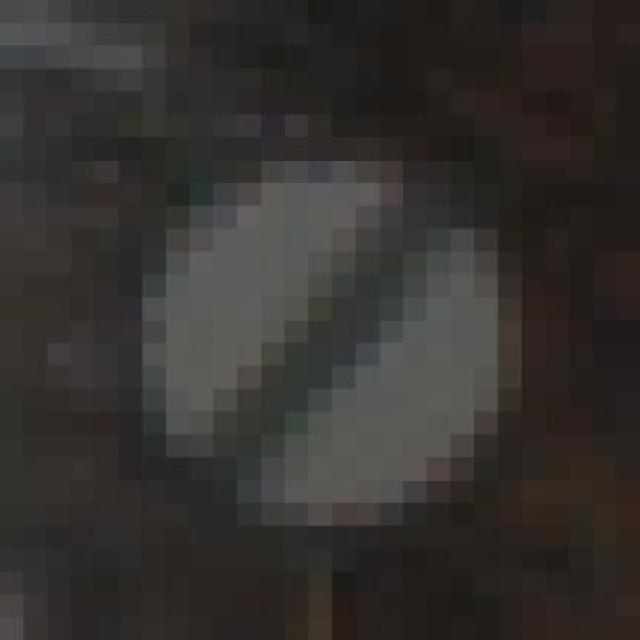End of all speed and passing limits: (94, 114, 546, 549)
